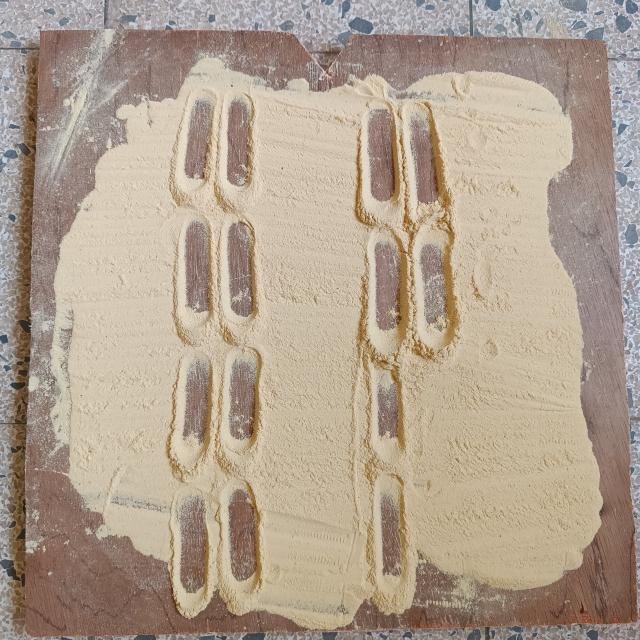double: (360, 222, 462, 359), (170, 478, 269, 614), (168, 346, 270, 474), (171, 210, 261, 345), (355, 101, 452, 222), (170, 92, 264, 206), (368, 472, 412, 604), (366, 361, 408, 468)
